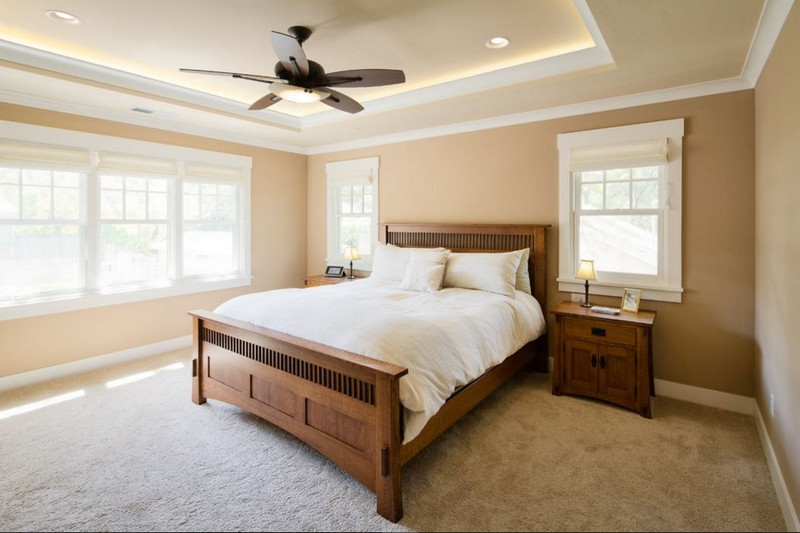bed: (186, 222, 551, 510)
lamp: (572, 256, 600, 313), (340, 244, 363, 281)
stool: (550, 299, 660, 427)
